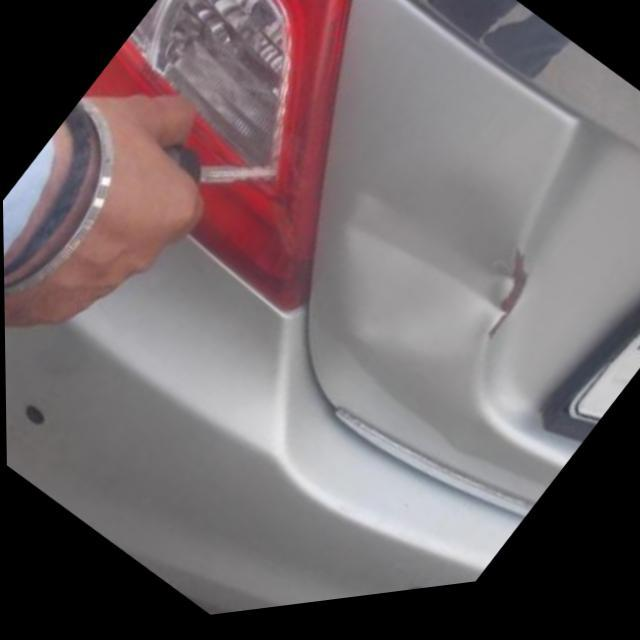dent: (336, 170, 524, 365)
